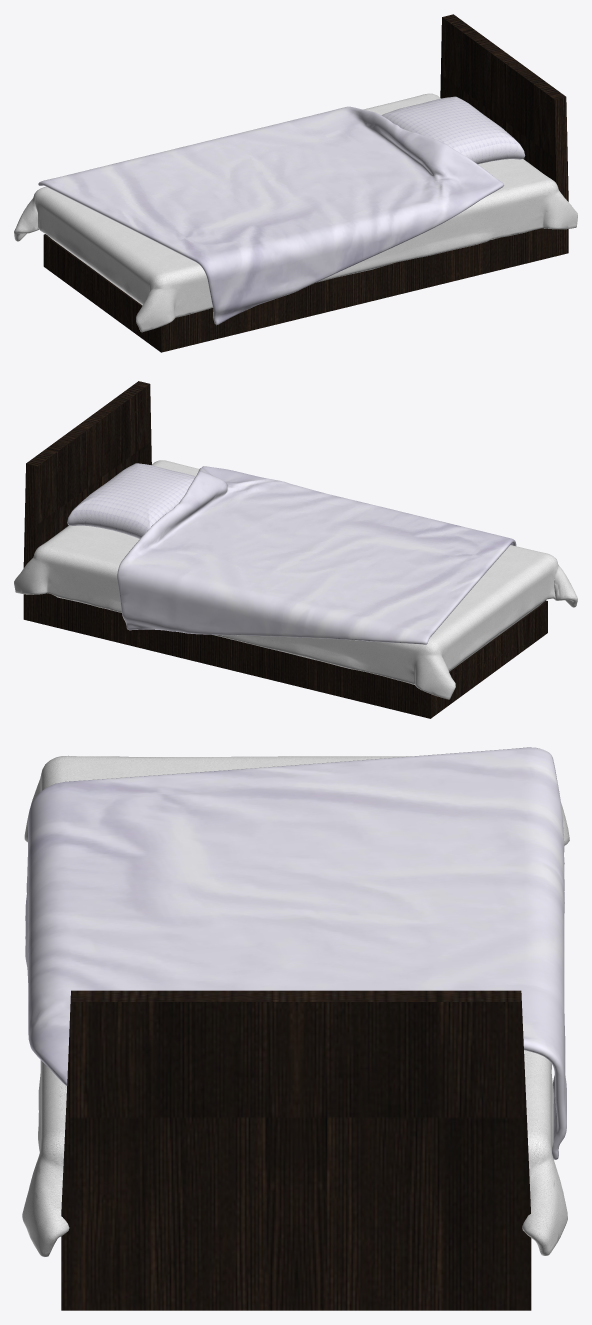
The model's file is bed.glb.
The picture shows the model from 3 angles, top to bottom: view 1: azimuth 30°, elevation 25°; view 2: azimuth 150°, elevation 25°; view 3: azimuth 270°, elevation 25°; orthographic projection. The views are drawn at different scales.
Parts seen in each view (by area): view 1: blanket_1, bed_0, sheet_4, pillow_3; view 2: blanket_1, bed_0, sheet_4, pillow_3; view 3: bed_0, blanket_1, sheet_4.
Part boxes in pixels (bbox=[...]): blanket_1: bbox=[38, 106, 503, 325]; bed_0: bbox=[43, 14, 568, 352]; sheet_4: bbox=[14, 93, 577, 332]; pillow_3: bbox=[381, 96, 525, 164]; blanket_1: bbox=[117, 466, 516, 644]; bed_0: bbox=[23, 381, 547, 718]; sheet_4: bbox=[14, 460, 577, 699]; pillow_3: bbox=[67, 463, 195, 538]; bed_0: bbox=[61, 990, 531, 1310]; blanket_1: bbox=[25, 747, 566, 1159]; sheet_4: bbox=[22, 755, 569, 1256].
Size of the model in its own units: 4.33 by 1.5 by 2.33.
4 materials, 3 textured.
